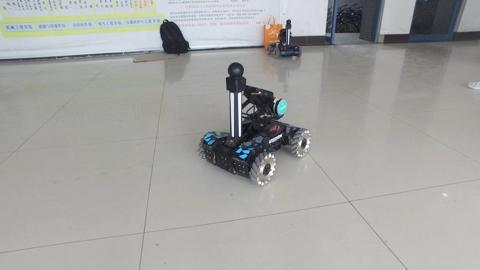bag: (157, 17, 192, 55), (261, 13, 284, 47)
chariot: (195, 61, 312, 187), (265, 17, 304, 60)
